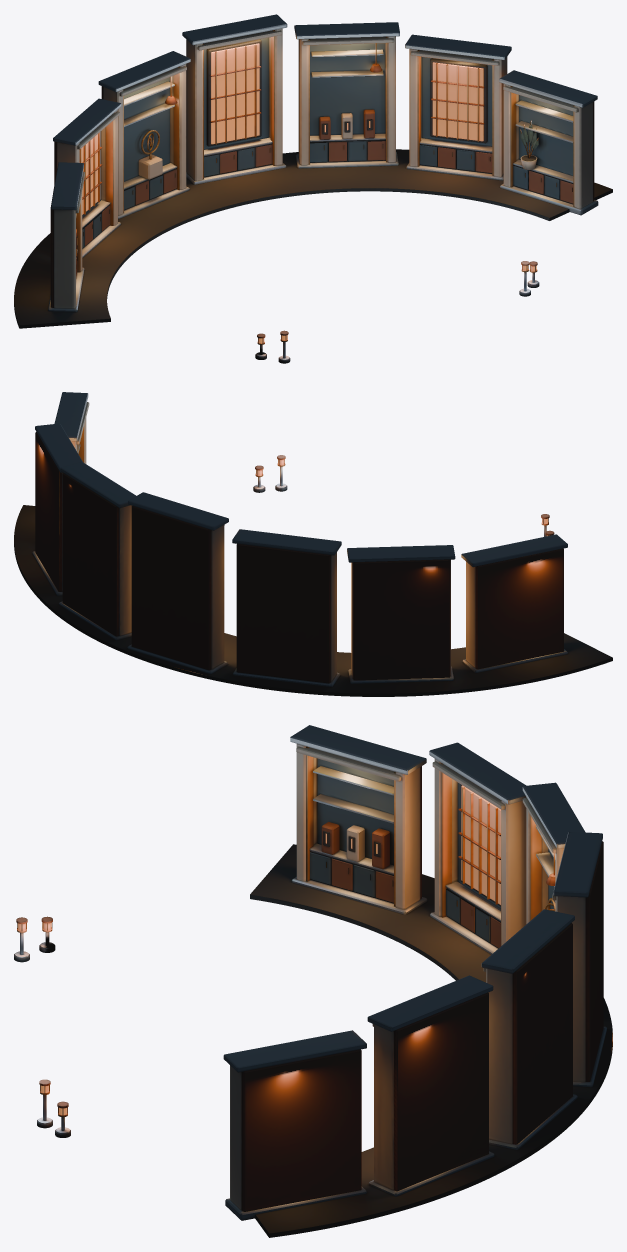
Rendered from orbital-warm-gallery-v7.glb.
3 views of the same model, one above another, from view 1: azimuth 30°, elevation 25°; view 2: azimuth 150°, elevation 25°; view 3: azimuth 270°, elevation 25° (orthographic). The views are drawn at different scales.
Parts seen in each view (by area): view 1: environment.warm_gallery__baked; view 2: environment.warm_gallery__baked; view 3: environment.warm_gallery__baked.
Part boxes in pixels (x1,y1,x2,y2): environment.warm_gallery__baked: (14,14,612,363); environment.warm_gallery__baked: (14,392,612,696); environment.warm_gallery__baked: (14,725,612,1237).
Bounding box in the file's own units: 38.11 × 9.11 × 24.78.
Materials: 1 (1 with a texture image).
